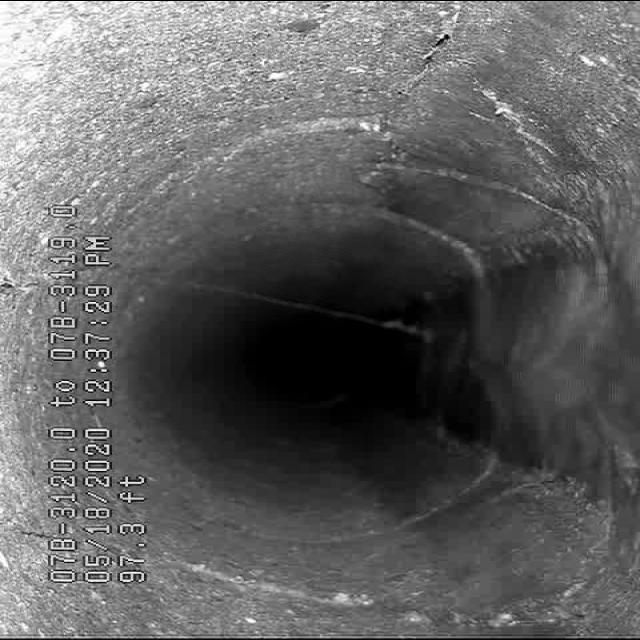Fracture: (215, 33, 525, 235)
